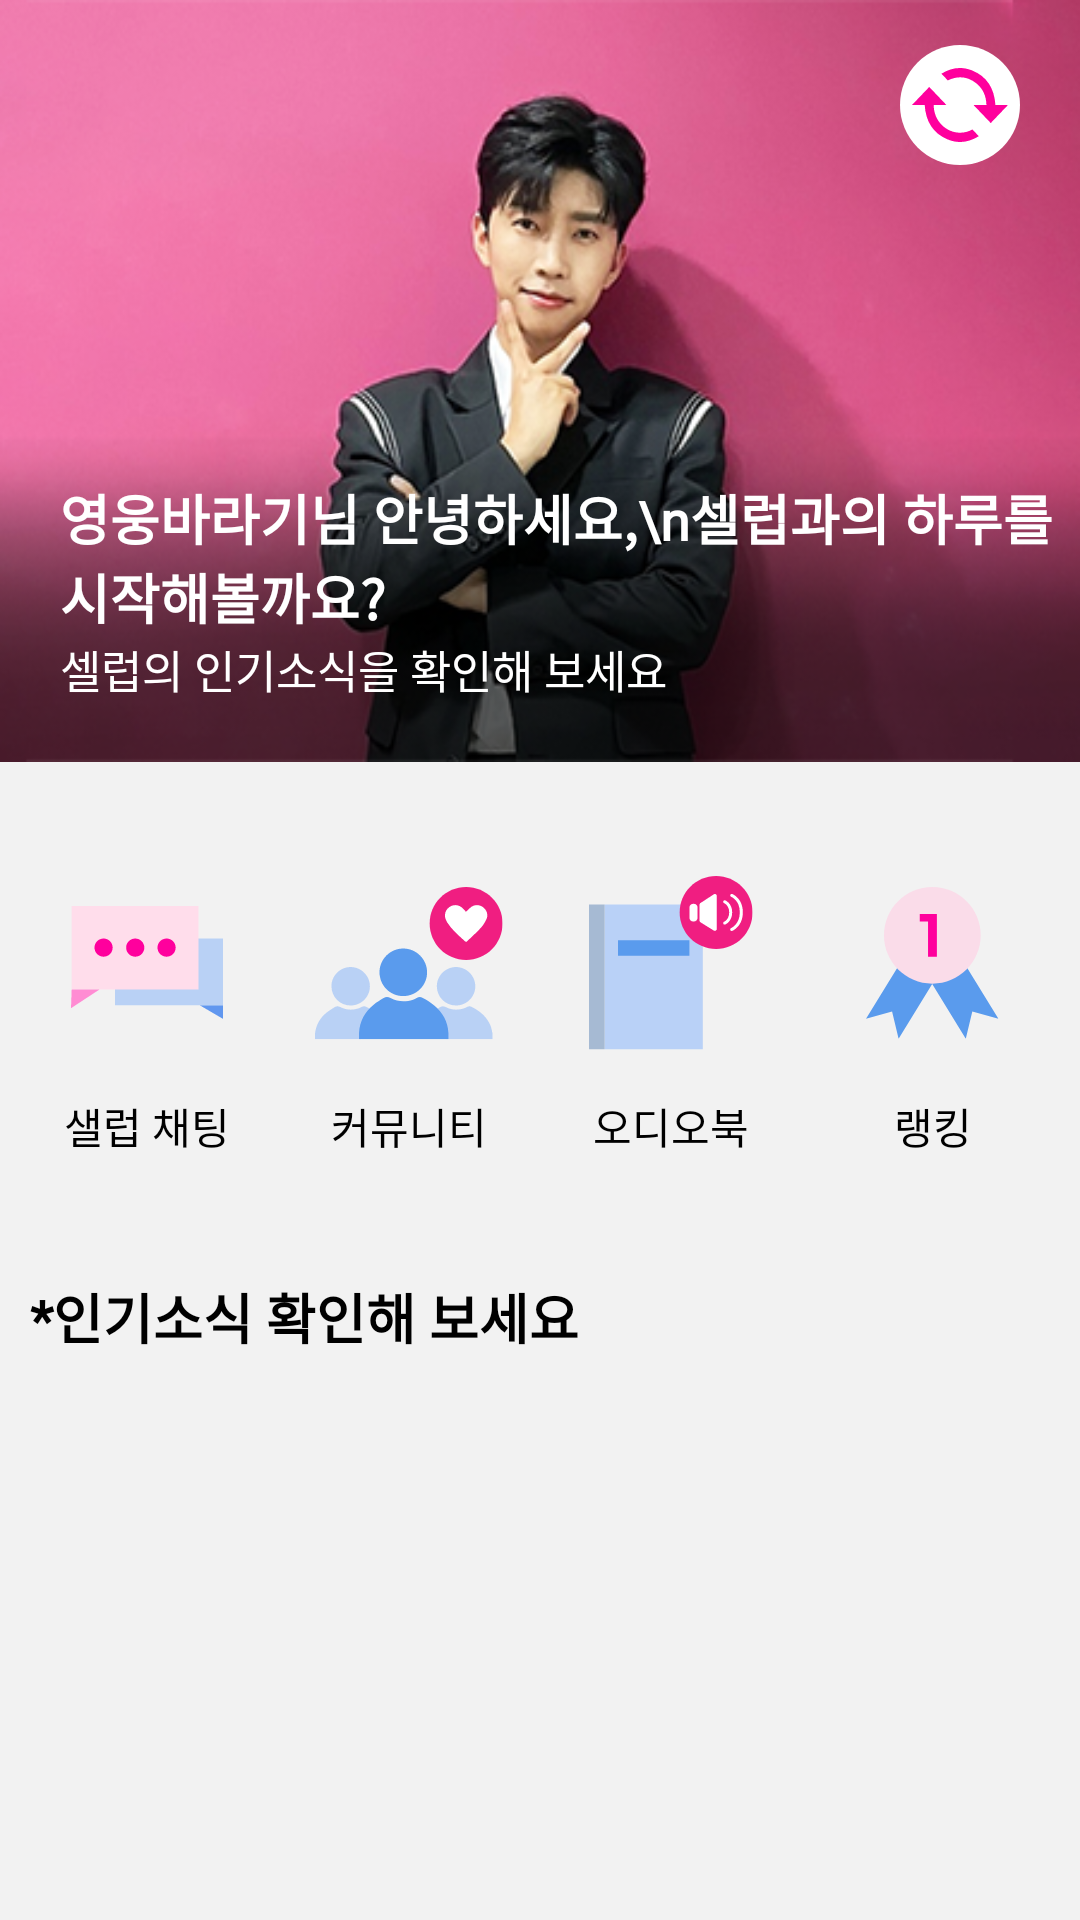

Icons on this 1080px x 1920px Android screen, each with the point to tap as (x=x, y=y):
celeb change: (x=960, y=105)
chat bot: (x=147, y=962)
rank: (x=932, y=976)
